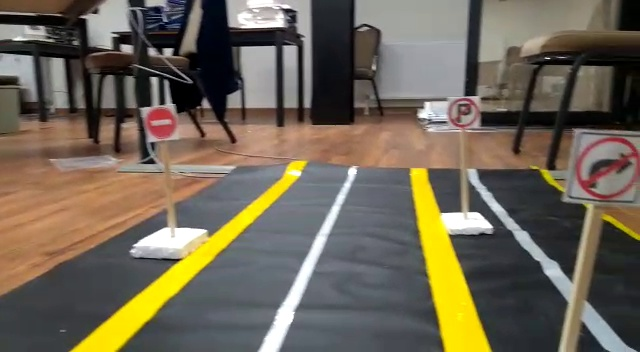girisi_olmayan_yol: (142, 105, 179, 139)
park_yapilmaz: (446, 97, 481, 131)
saga_donulmez: (572, 133, 640, 202)
